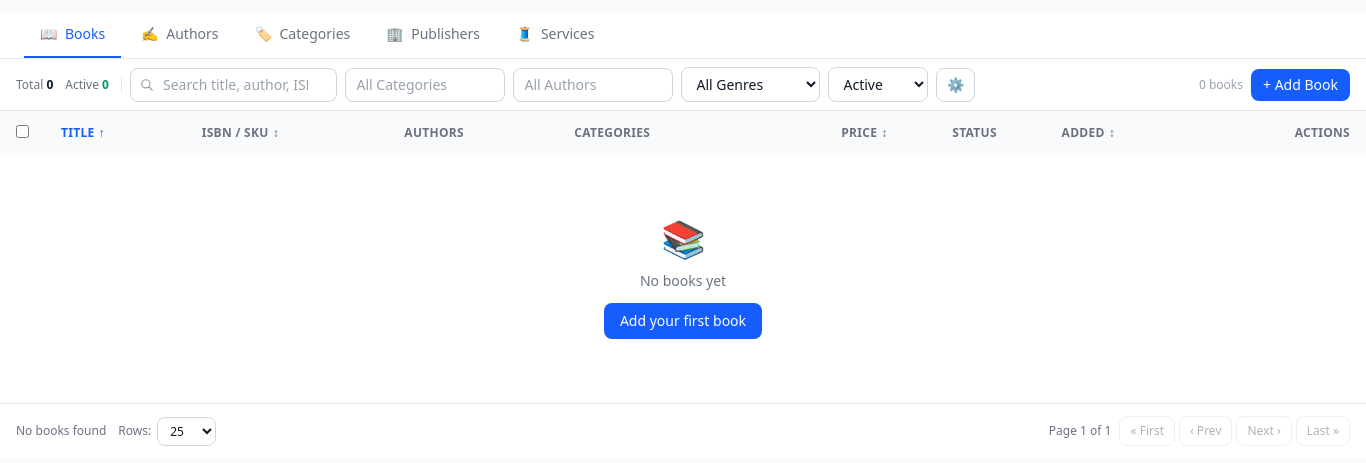
it: Catalog reference tabs: who may change them › offers a Manager editing but not Delete, which the API keeps for Admins (was: Delete offered, then refused)
Click the button "✍️ Authors": [180, 35] box x1=125 y1=12 x2=234 y2=58
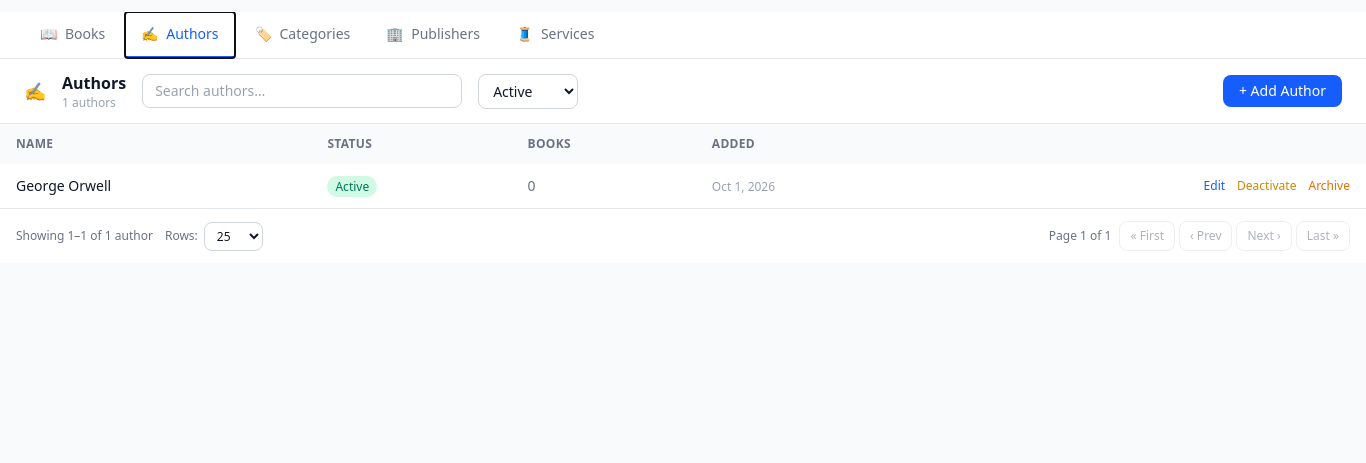
Expected: the text "George Orwell" is shown, x1=16 y1=176 x2=111 y2=195
Expected: the button "Edit" is shown, x1=1204 y1=178 x2=1225 y2=194
Expected: the button "+ Add Author" is shown, x1=1223 y1=75 x2=1342 y2=107
